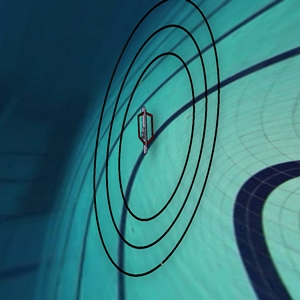circle: (48, 1, 258, 282)
submarine: (123, 95, 173, 160)
